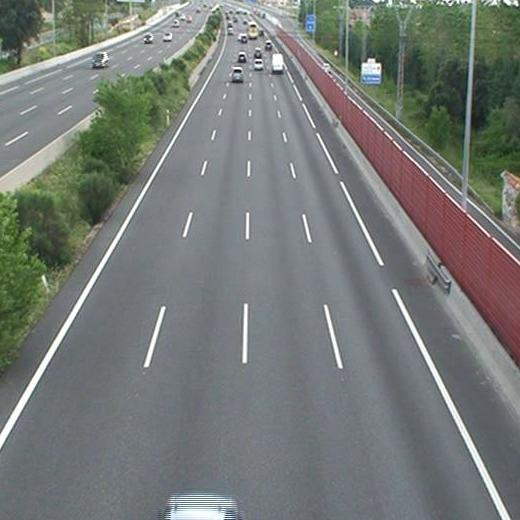bus: (247, 22, 258, 40)
car: (231, 68, 243, 81), (253, 59, 263, 70), (237, 51, 247, 62), (253, 49, 261, 58)
van: (272, 52, 284, 73)
